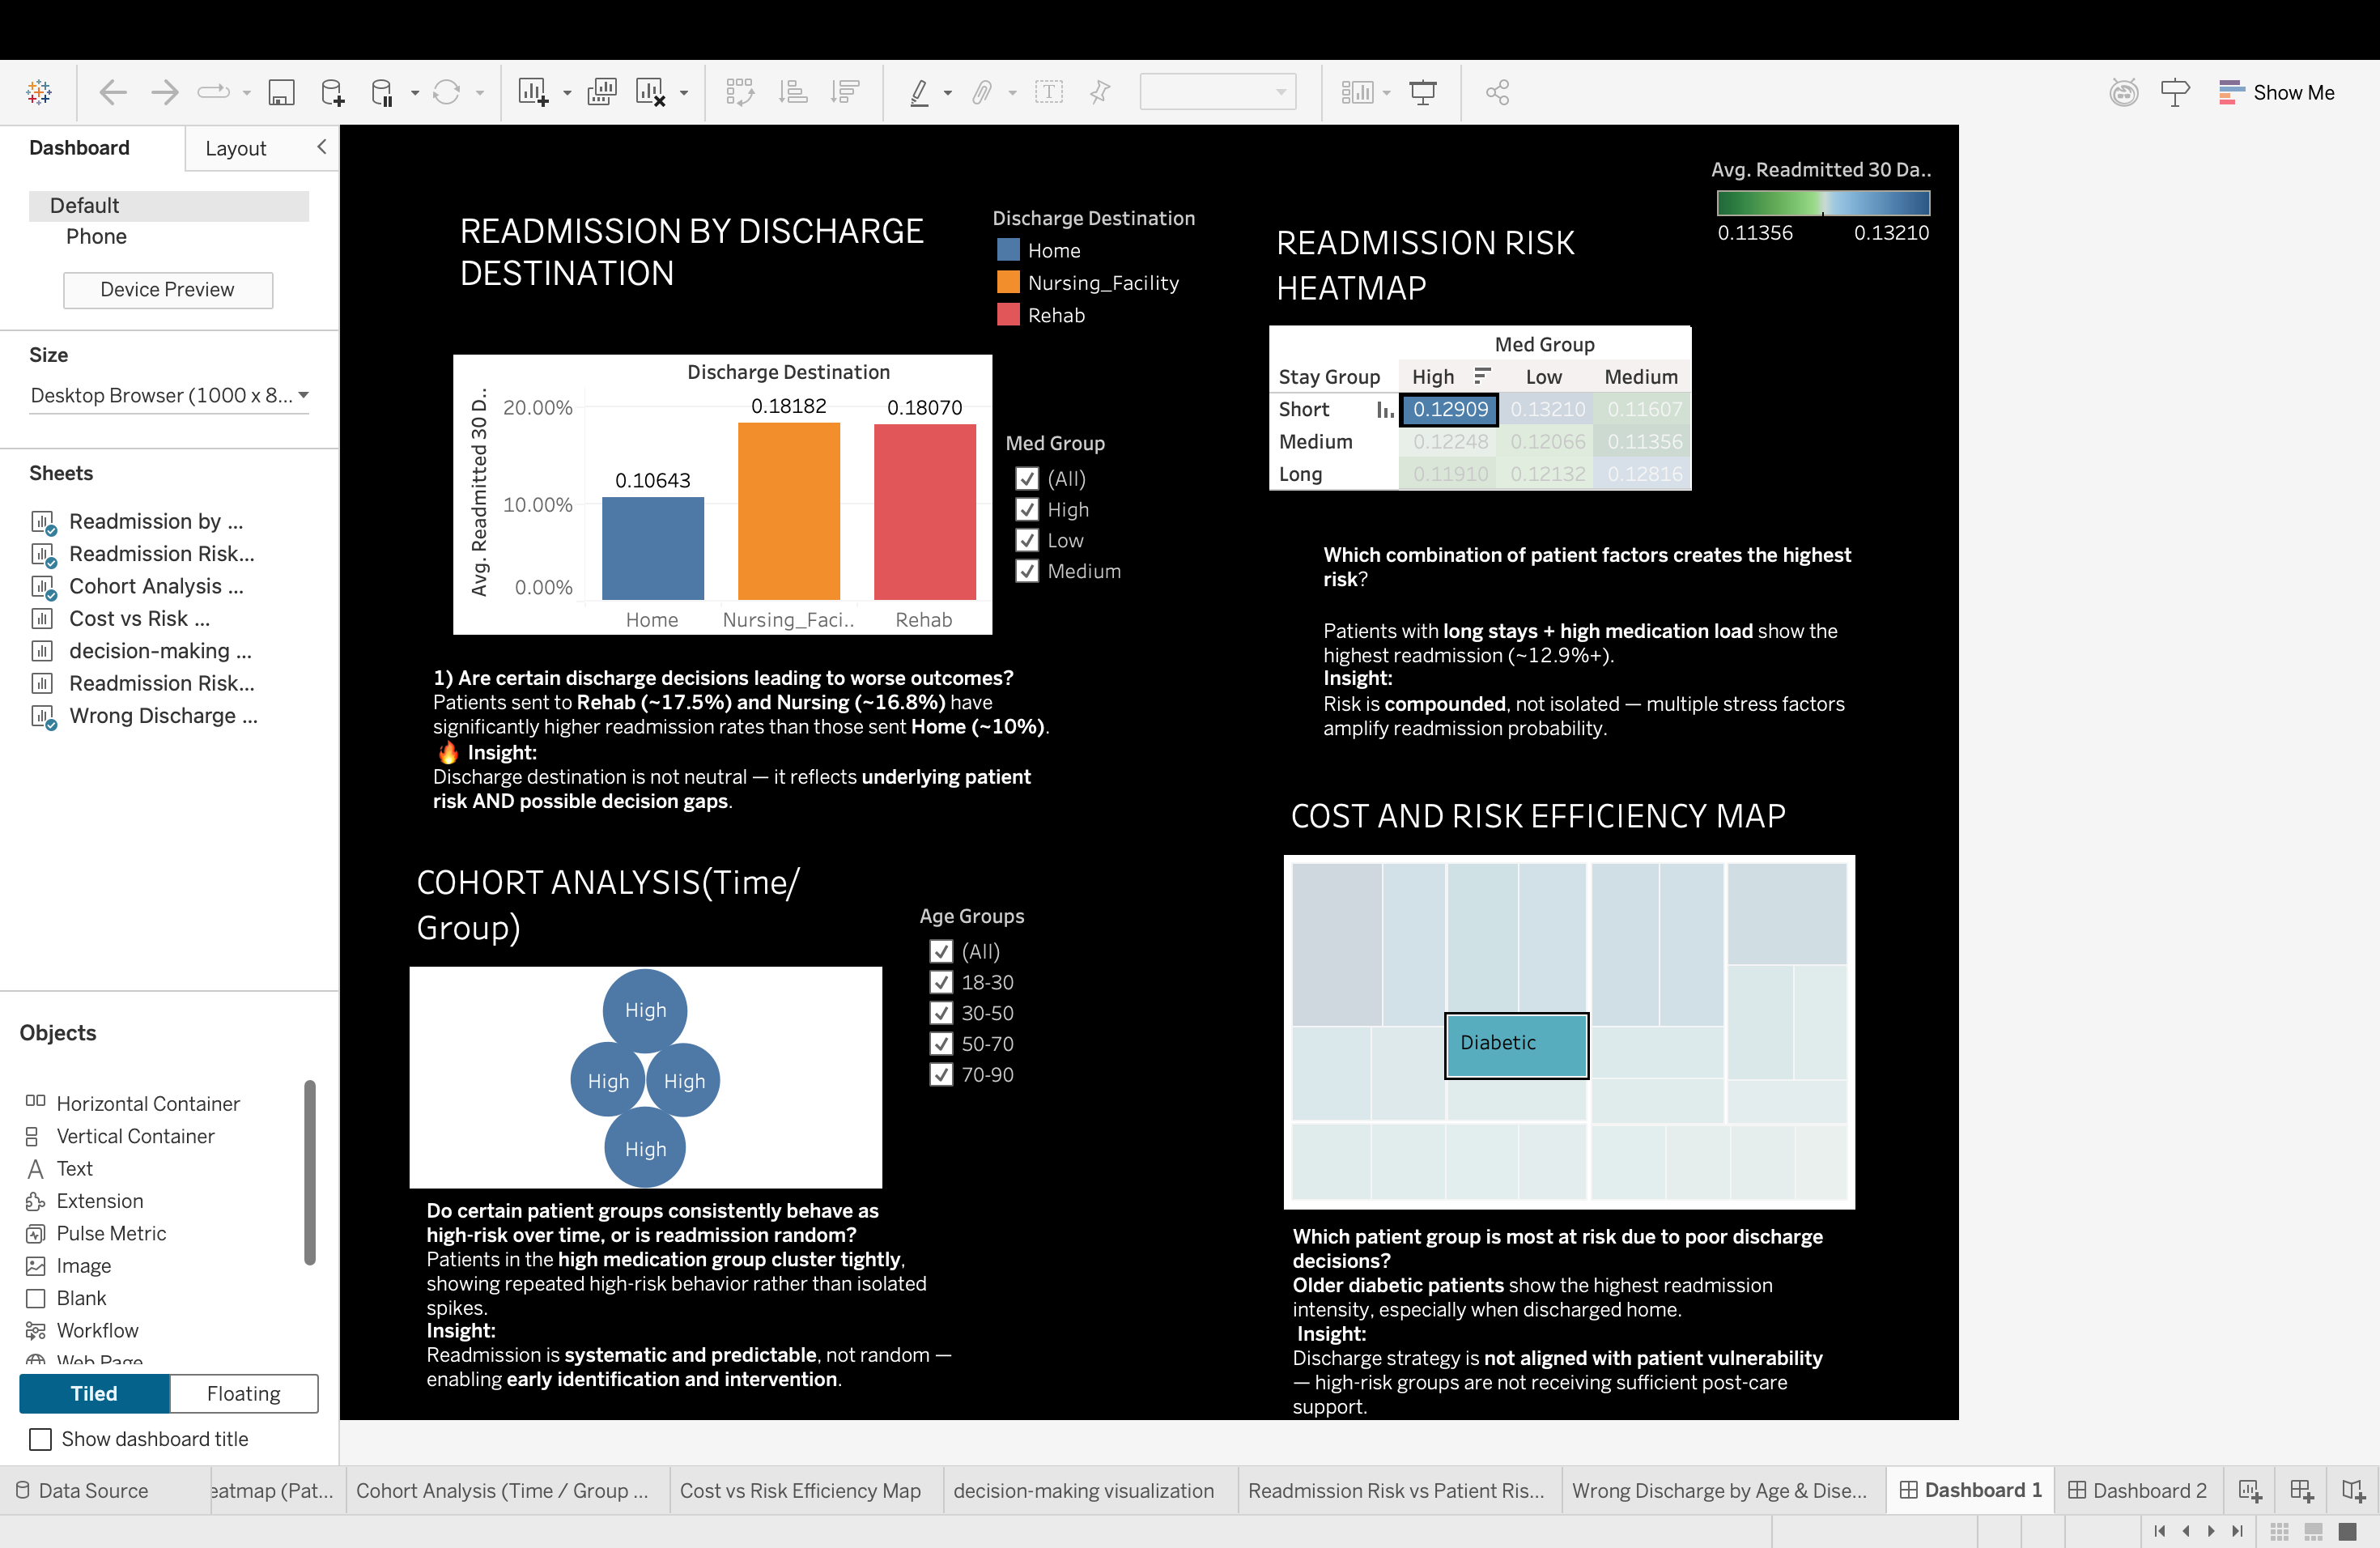

This screenshot's page, from the dashboard's own definition file:
{"tool":"tableau","page":{"name":"Dashboard 1","canvas":[1000,800],"ordinal":0},"visuals":[{"type":"legend","title":"Readmission Risk Heatmap (Patient Complexity)","param":"[federated.0xs7bht16vtc711ei842v1f6q77y].[avg:readmitted_30_days:qk]","box":[847,19,140,76]},{"type":"worksheet","title":"Readmission by Discharge Destination","mark":"Bar","rows":["readmitted_30_days"],"cols":["discharge_destination"],"box":[70,49,333,266]},{"type":"legend","title":"Readmission by Discharge Destination","param":"[federated.0xs7bht16vtc711ei842v1f6q77y].[none:discharge_destination:nk]","box":[403,49,140,78]},{"type":"worksheet","title":"Readmission Risk Heatmap (Patient Complexity)","mark":"Square","rows":["Calculation_0898432476332035"],"cols":["Calculation_0898432476086274"],"box":[574,54,338,208]},{"type":"filter","title":"Readmission Risk Heatmap (Patient Complexity)","param":"[federated.0xs7bht16vtc711ei842v1f6q77y].[none:Calculation_0898432476086274:nk]","box":[411,188,160,100]},{"type":"text","box":[605,259,357,127]},{"type":"text","box":[55,315,390,135]},{"type":"worksheet","title":"Wrong Discharge by Age & Disease","mark":"Automatic","box":[583,408,353,266]},{"type":"worksheet","title":"Cohort Analysis (Time / Group Behavior)","mark":"Circle","box":[43,449,300,208]},{"type":"filter","title":"Cohort Analysis (Time / Group Behavior)","param":"[federated.0xs7bht16vtc711ei842v1f6q77y].[none:Calculation_0898432478683140:nk]","box":[358,480,160,119]},{"type":"text","box":[51,663,333,127]}]}

Visuals, with their boxes on the page's 1000x800 design canvas (x1, y1, x2, y2). These are canvas units, not pixel positions in the 2380x1548 screenshot, which may show the page scaled, cropped or inside an application window:
"Readmission Risk Heatmap (Patient Complexity)" legend: <box>847,19,987,95</box>
"Readmission by Discharge Destination" worksheet (Bar marks): <box>70,49,403,315</box>
"Readmission by Discharge Destination" legend: <box>403,49,543,127</box>
"Readmission Risk Heatmap (Patient Complexity)" worksheet (Square marks): <box>574,54,912,262</box>
"Readmission Risk Heatmap (Patient Complexity)" filter: <box>411,188,571,288</box>
text: <box>605,259,962,386</box>
text: <box>55,315,445,450</box>
"Wrong Discharge by Age & Disease" worksheet: <box>583,408,936,674</box>
"Cohort Analysis (Time / Group Behavior)" worksheet (Circle marks): <box>43,449,343,657</box>
"Cohort Analysis (Time / Group Behavior)" filter: <box>358,480,518,599</box>
text: <box>51,663,384,790</box>
